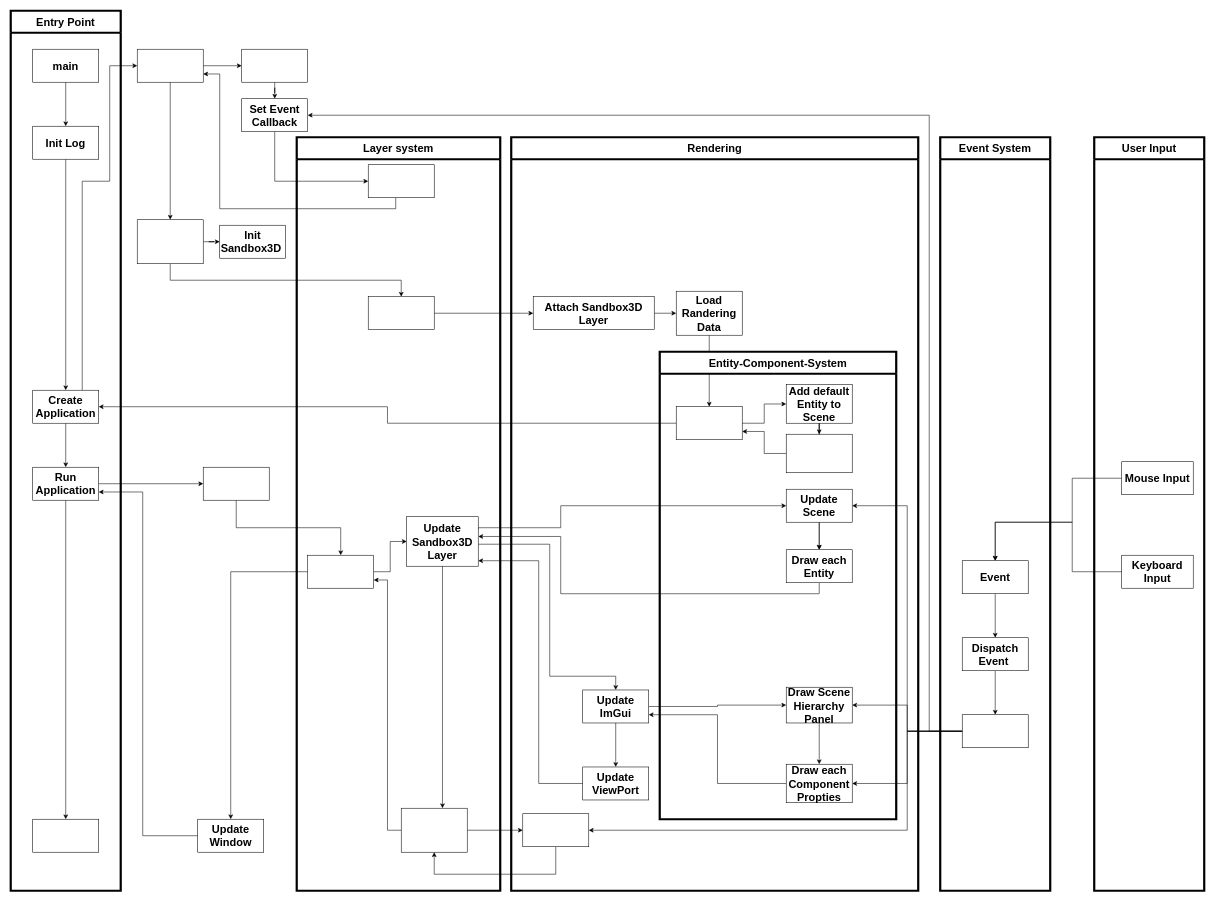
This 1214x901 diagram has some shape labels left out. The shapes that lost their labels are listed below. From the top down, each one's centre as x and y in pixels, then its label:
the point at 170,65: Init Application
the point at 274,65: Init Window
the point at 401,181: Push ImGuiDemo Layer
the point at 170,241: New Sandbox3D Layer
the point at 401,313: Push Sandbox3D Layer
the point at 709,423: Init Scene
the point at 819,453: Add default Component to Entity
the point at 236,483: Calculate delta Time
the point at 340,571: Update each Layer
the point at 995,731: OnEvent
the point at 65,835: Delete Application
the point at 434,830: Update ImGuiDemo Layer
the point at 555,830: Draw ImGuiDemo
